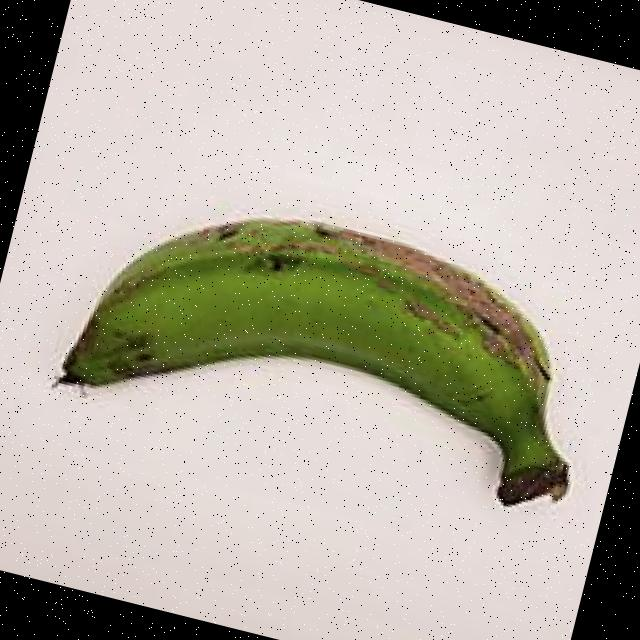Raw: (38, 121, 636, 564)
